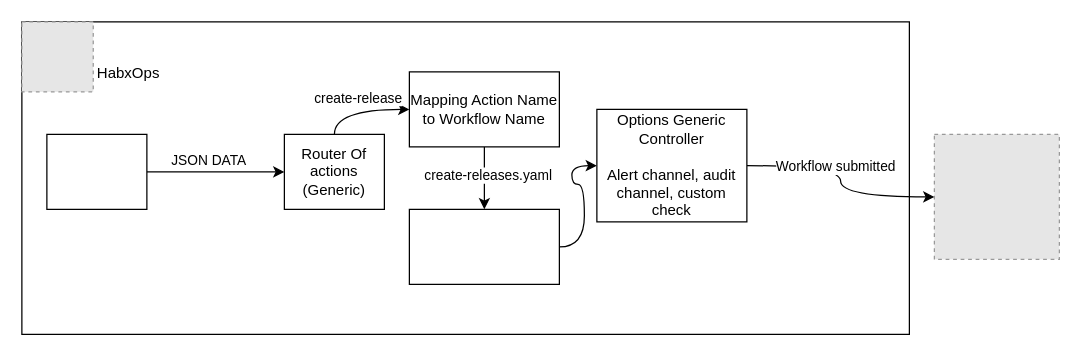
The diagram is 1081 pixels wide and 356 high, and some of its shapes have lost their labels. Grey dashed boxes stand in for pictures. Here are the shapes that lost their labels. From the top down, the centre of each, then its label:
At (x=96, y=171): "API /slack/events".
At (x=483, y=246): "Action args Check (Automated with argo workflow yaml parsing)".
